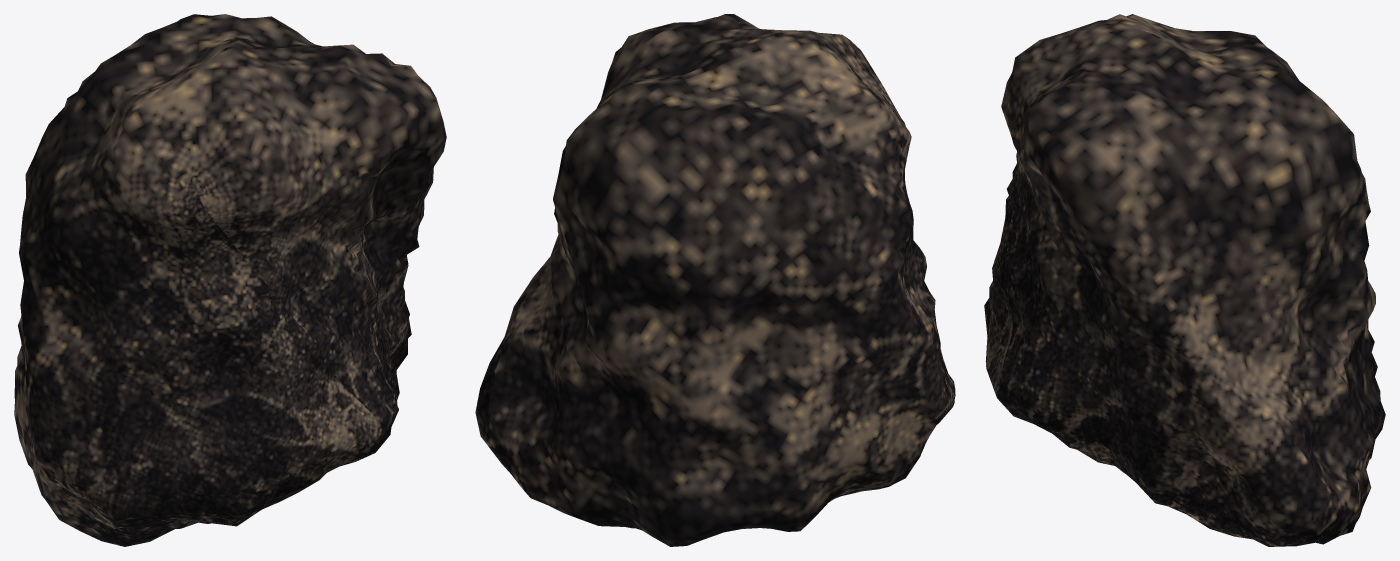
The model's file is SM_Rock_003.fbx.
3 renders of one model, left to right at view 1: azimuth 30°, elevation 25°; view 2: azimuth 150°, elevation 25°; view 3: azimuth 270°, elevation 25°, orthographic. The views are drawn at different scales.
Visible parts, largest first — view 1: rock.003; view 2: rock.003; view 3: rock.003.
Part boxes in pixels (bbox=[...]): rock.003: bbox=[14, 14, 446, 546]; rock.003: bbox=[475, 14, 955, 546]; rock.003: bbox=[984, 14, 1385, 546].
Bounding box in the file's own units: 3.29 × 2.83 × 3.61.
